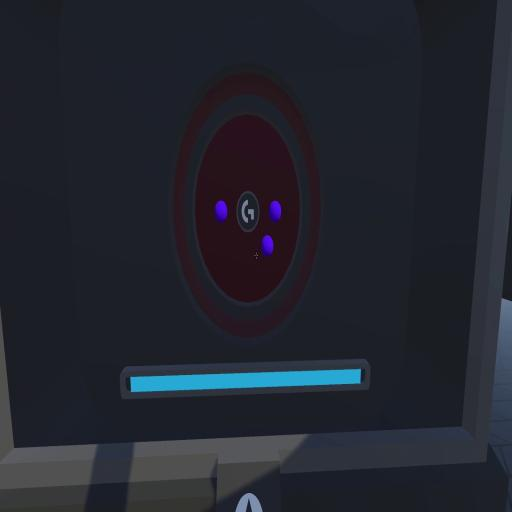Crosshair: (254, 252, 258, 260)
Target: (269, 199, 281, 223), (261, 234, 273, 258), (215, 200, 227, 223)
